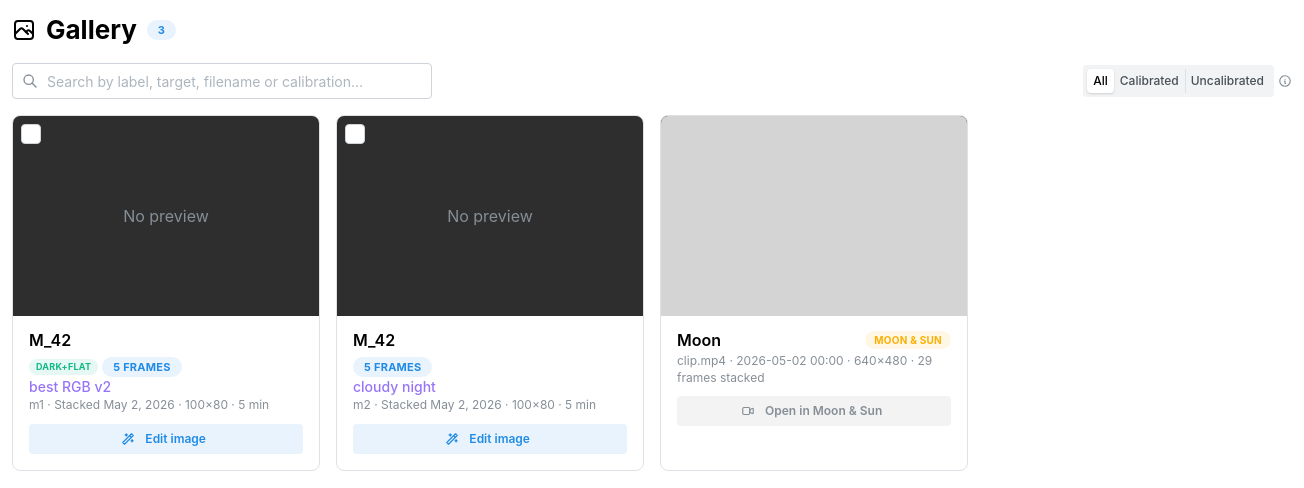
Test: Gallery Moon & Sun stills › finds a still through the one search box and hides it under a stack-only facet
The image size is (1304, 488).
Check: the text "Moon" is shown, box top-left (677, 328), bottom-right (721, 353)
Type "moon" into the field with placeholder "Search by label, target, filename or calibration…" at (222, 81), box top-left (12, 63), bottom-right (432, 99)
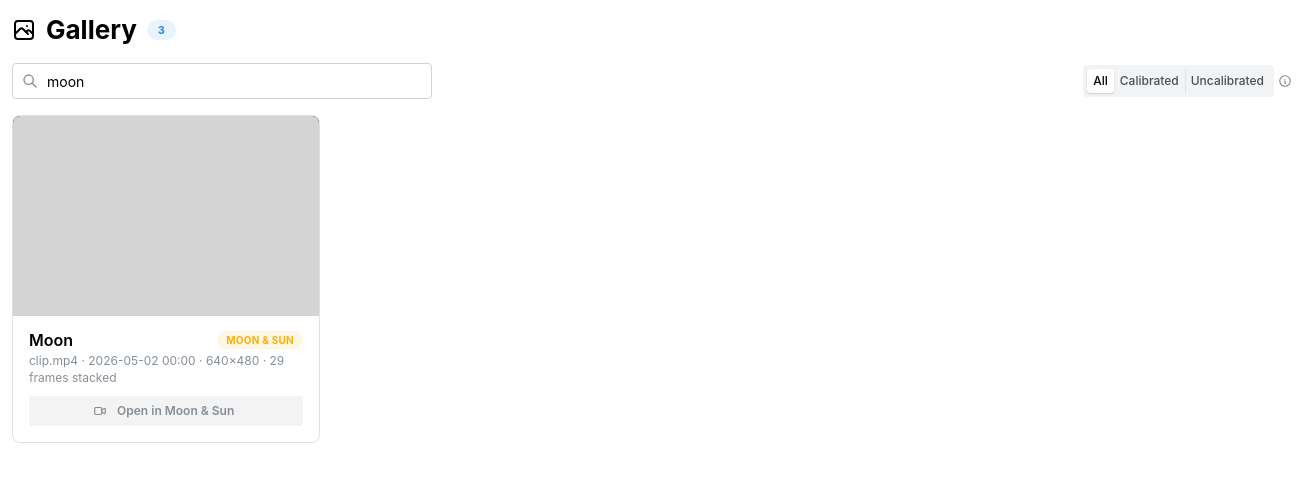
Check: the text "Moon" is shown, box top-left (29, 328), bottom-right (73, 353)
Check: the text "best RGB v2" is gone
Clear the field with placeholder "Search by label, target, filename or calibration…" at (222, 81), box top-left (12, 63), bottom-right (432, 99)
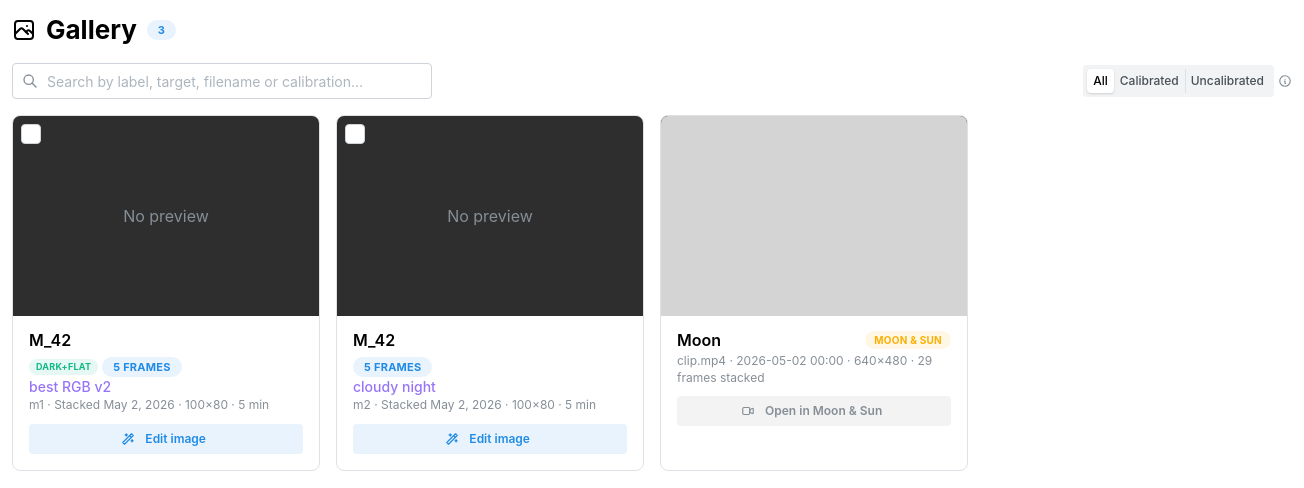
Check: the text "Moon" is shown, box top-left (677, 328), bottom-right (721, 353)
Click the text "Calibrated" at (1149, 80), box top-left (1120, 73), bottom-right (1179, 88)
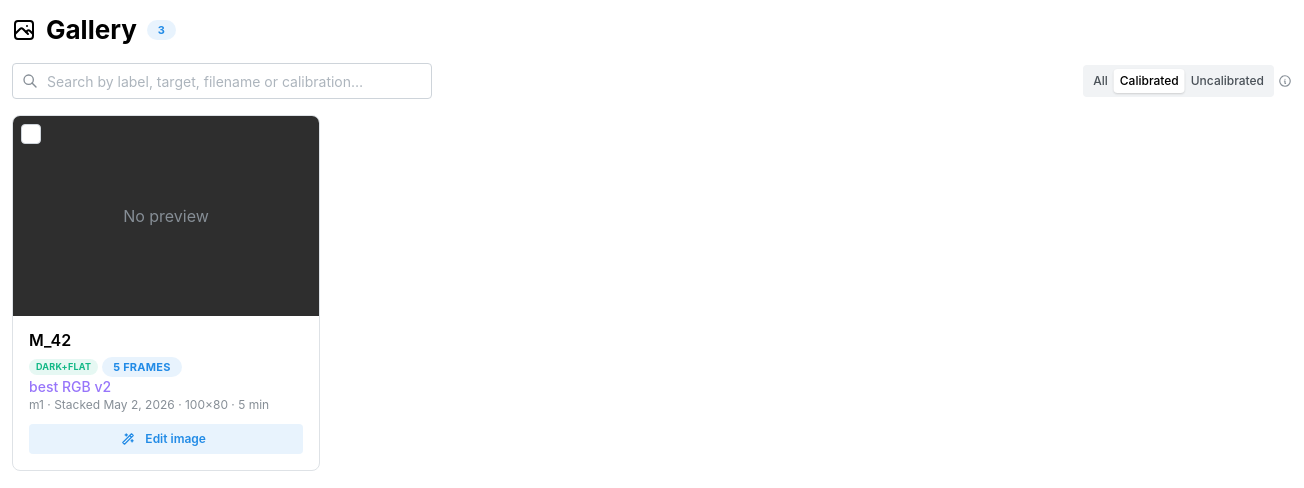
Check: the text "Moon" is gone
